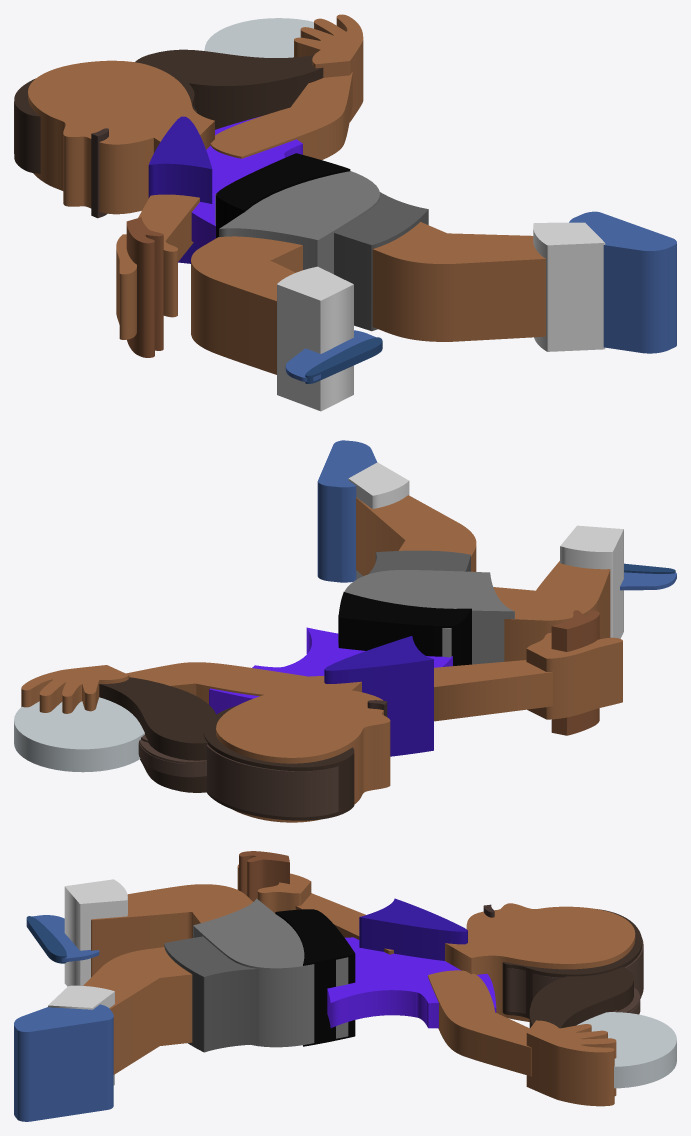
The model's file is emoji_u1f93e_1f3fe_200d_2640.glb.
The picture shows the model from 3 angles, top to bottom: view 1: azimuth 30°, elevation 25°; view 2: azimuth 150°, elevation 25°; view 3: azimuth 270°, elevation 25°; orthographic projection. The views are drawn at different scales.
Parts seen in each view (by area): view 1: emoji_u1f93e_1f3fe_200d_2640; view 2: emoji_u1f93e_1f3fe_200d_2640; view 3: emoji_u1f93e_1f3fe_200d_2640.
Boxes of the visible parts, box(x1,y1,x2,y2) form: emoji_u1f93e_1f3fe_200d_2640: box(14, 14, 676, 411); emoji_u1f93e_1f3fe_200d_2640: box(14, 440, 676, 822); emoji_u1f93e_1f3fe_200d_2640: box(14, 851, 676, 1121).
Bounding box in the file's own units: 0.0224 × 0.0056 × 0.0335.
